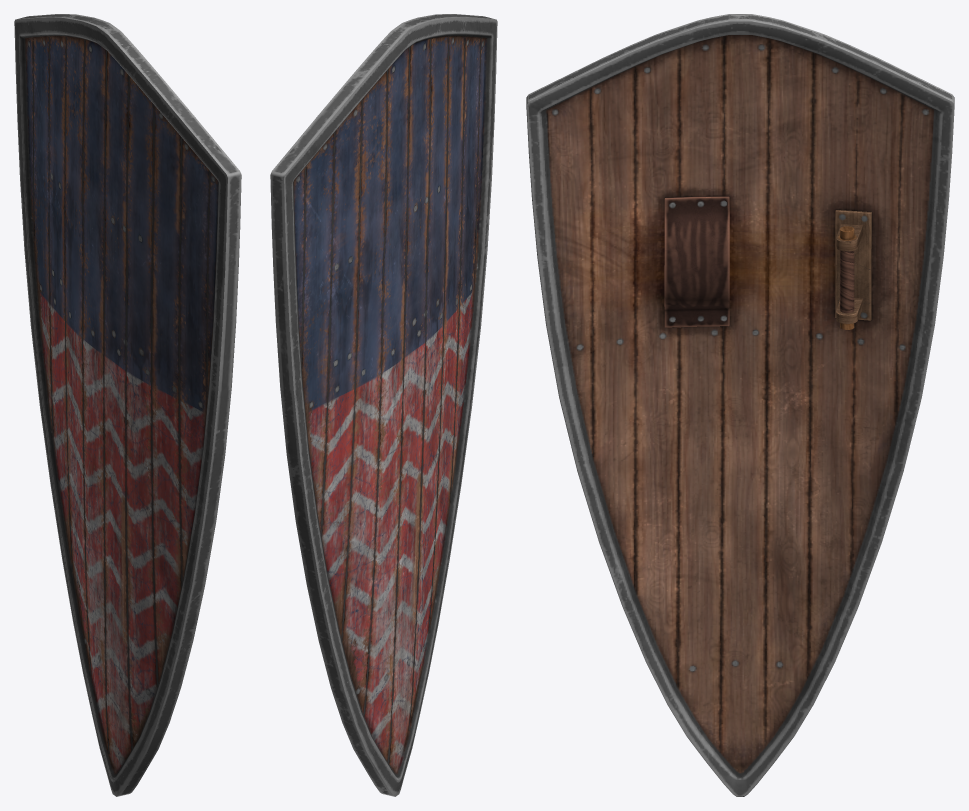
File: Kite_Shield_02.fbx
3 renders of one model, left to right at view 1: azimuth 30°, elevation 25°; view 2: azimuth 150°, elevation 25°; view 3: azimuth 270°, elevation 25°, orthographic.
Visible parts, largest first — view 1: Kite_Shield_02_LOD0; view 2: Kite_Shield_02_LOD0; view 3: Kite_Shield_02_LOD0.
Part boxes in pixels (x1,y1,x2,y2): Kite_Shield_02_LOD0: (14,14,241,796); Kite_Shield_02_LOD0: (270,14,497,796); Kite_Shield_02_LOD0: (526,14,954,796).
Size of what is drawn, in the model's own units: 7.99 by 107 by 53.76.
